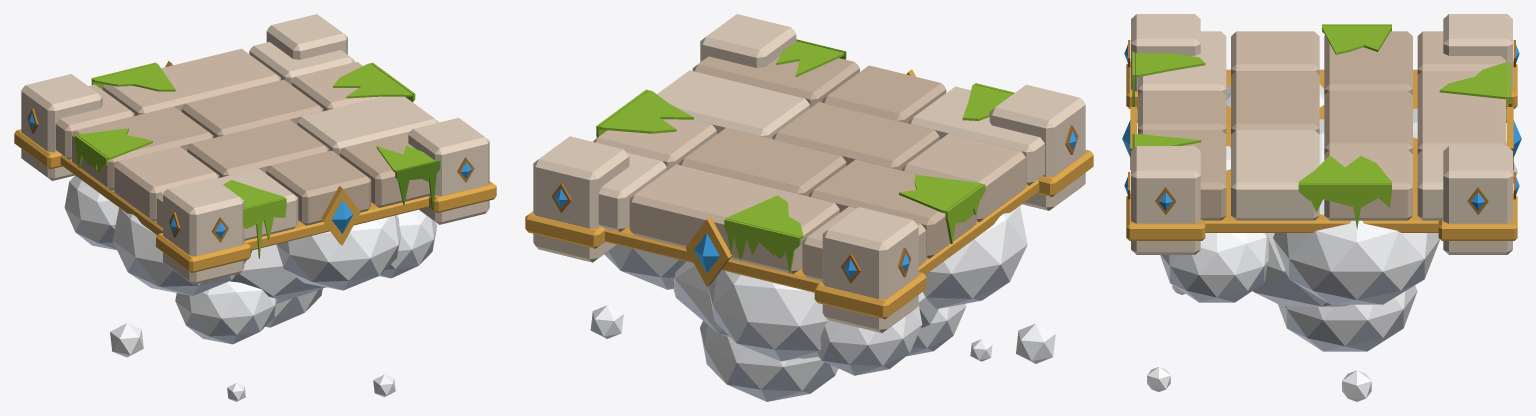
Rendered from Plataforma_Nuvem.fbx.
3 renders of one model, left to right at view 1: azimuth 30°, elevation 25°; view 2: azimuth 150°, elevation 25°; view 3: azimuth 270°, elevation 25°, orthographic. The views are drawn at different scales.
Parts seen in each view (by area): view 1: Plataforma_Nuvem_Piso, Plataforma_Nuvem_Nuvem; view 2: Plataforma_Nuvem_Piso, Plataforma_Nuvem_Nuvem; view 3: Plataforma_Nuvem_Piso, Plataforma_Nuvem_Nuvem.
Boxes of the visible parts, left/top/right/bottom form: Plataforma_Nuvem_Piso: left=14, top=14, right=496, bottom=284; Plataforma_Nuvem_Nuvem: left=64, top=175, right=437, bottom=401; Plataforma_Nuvem_Piso: left=525, top=14, right=1093, bottom=332; Plataforma_Nuvem_Nuvem: left=590, top=206, right=1055, bottom=401; Plataforma_Nuvem_Piso: left=1122, top=14, right=1521, bottom=254; Plataforma_Nuvem_Nuvem: left=1147, top=84, right=1517, bottom=401.
Bounding box in the file's own units: 3.75 × 2.56 × 3.43.
